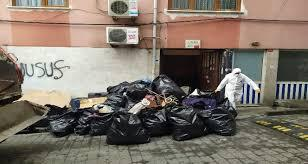Garbage: (52, 77, 240, 158), (163, 108, 207, 141), (112, 113, 147, 151), (152, 73, 181, 103), (49, 109, 75, 137), (93, 108, 112, 140)
